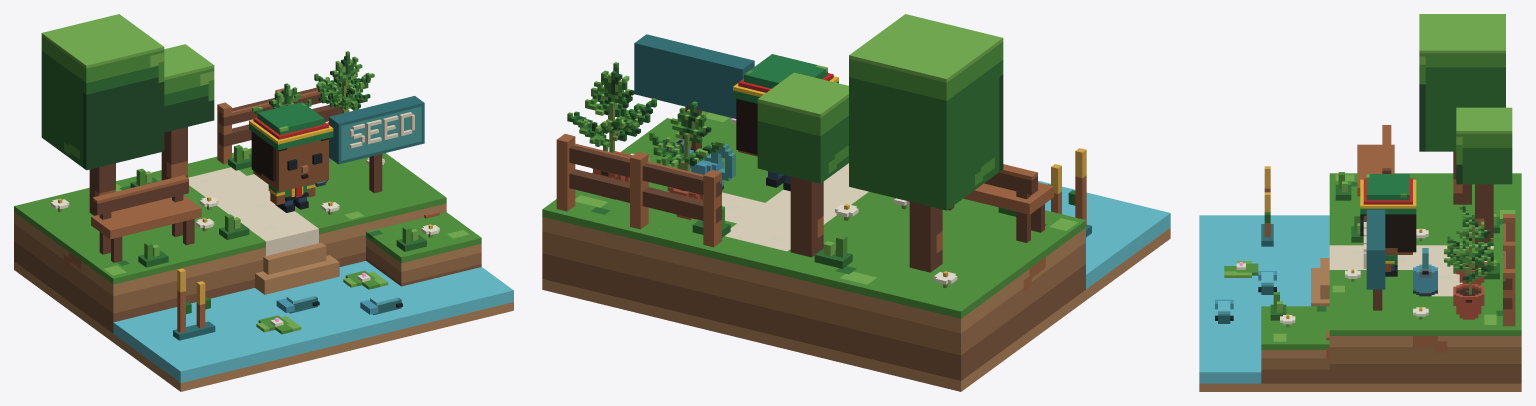
File: seedling_garden.glb
3 views of the same model, side by side, from view 1: azimuth 30°, elevation 25°; view 2: azimuth 150°, elevation 25°; view 3: azimuth 270°, elevation 25° (orthographic). The views are drawn at different scales.
Parts seen in each view (by area): view 1: seedling_garden; view 2: seedling_garden; view 3: seedling_garden.
Boxes of the visible parts, x1,y1,x2,y2 form: seedling_garden: [14, 14, 513, 391]; seedling_garden: [542, 14, 1170, 391]; seedling_garden: [1199, 14, 1521, 391].
Size of the model in its own units: 6 by 4.1 by 5.2.
2 materials, 2 textured.
